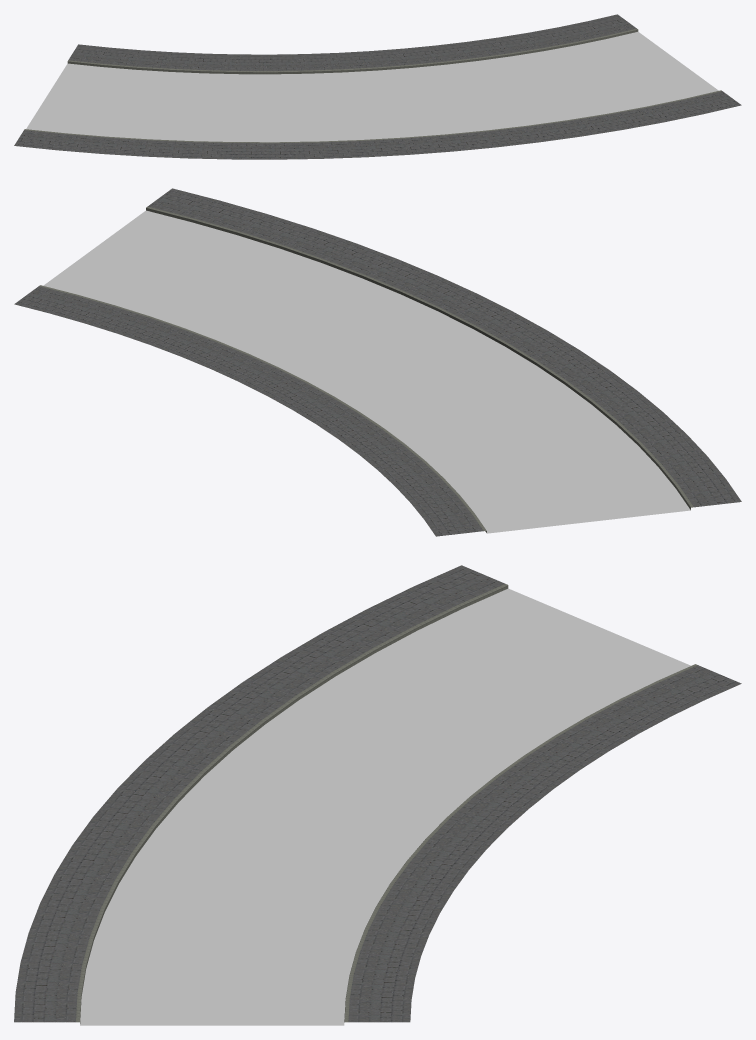
Rendered from CT_Road_Long_Turm_01.fbx.
The picture shows the model from 3 angles, top to bottom: view 1: azimuth 30°, elevation 25°; view 2: azimuth 150°, elevation 25°; view 3: azimuth 270°, elevation 25°; orthographic projection. The views are drawn at different scales.
Visible parts, largest first — view 1: CT_Road_Long_Turm_01; view 2: CT_Road_Long_Turm_01; view 3: CT_Road_Long_Turm_01.
Part boxes in pixels (bbox=[...]): CT_Road_Long_Turm_01: bbox=[14, 14, 741, 159]; CT_Road_Long_Turm_01: bbox=[14, 188, 741, 536]; CT_Road_Long_Turm_01: bbox=[14, 565, 741, 1025].
Size of the model in its own units: 4190 by 15 by 2821.
